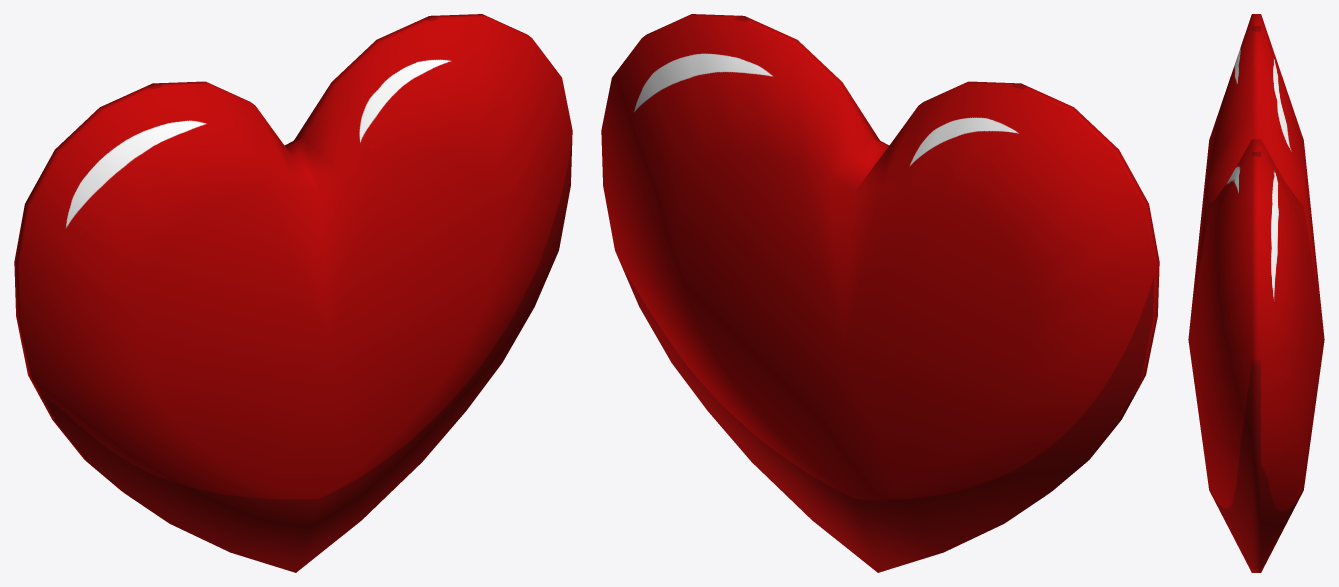
The model's file is Heart.FBX.
3 renders of one model, left to right at view 1: azimuth 30°, elevation 25°; view 2: azimuth 150°, elevation 25°; view 3: azimuth 270°, elevation 25°, orthographic. The views are drawn at different scales.
Visible parts, largest first — view 1: Cylinder001; view 2: Cylinder001; view 3: Cylinder001.
Boxes of the visible parts, left/top/right/bottom form: Cylinder001: left=14, top=14, right=572, bottom=572; Cylinder001: left=601, top=14, right=1159, bottom=572; Cylinder001: left=1188, top=14, right=1324, bottom=572.
Bounding box in the file's own units: 40 × 35.9 × 9.18.
